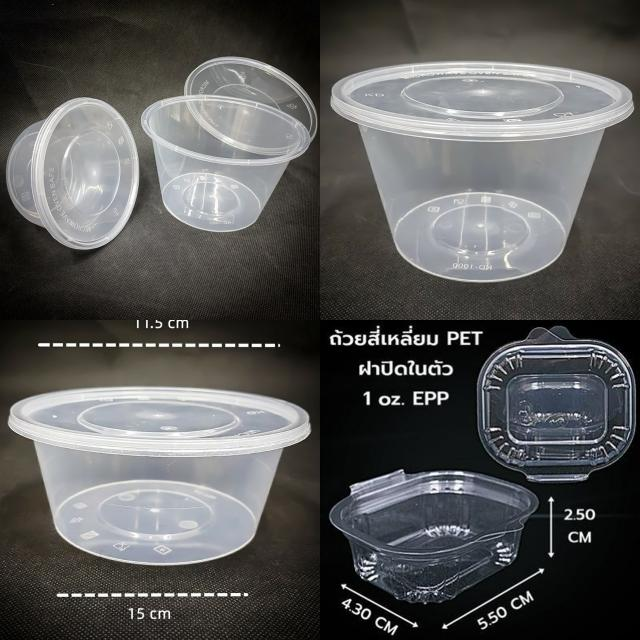Single-Use-Plastic: (331, 61, 634, 282), (9, 386, 311, 565), (330, 470, 539, 603), (478, 326, 635, 482), (141, 95, 309, 231), (6, 98, 139, 248), (185, 56, 318, 156)
